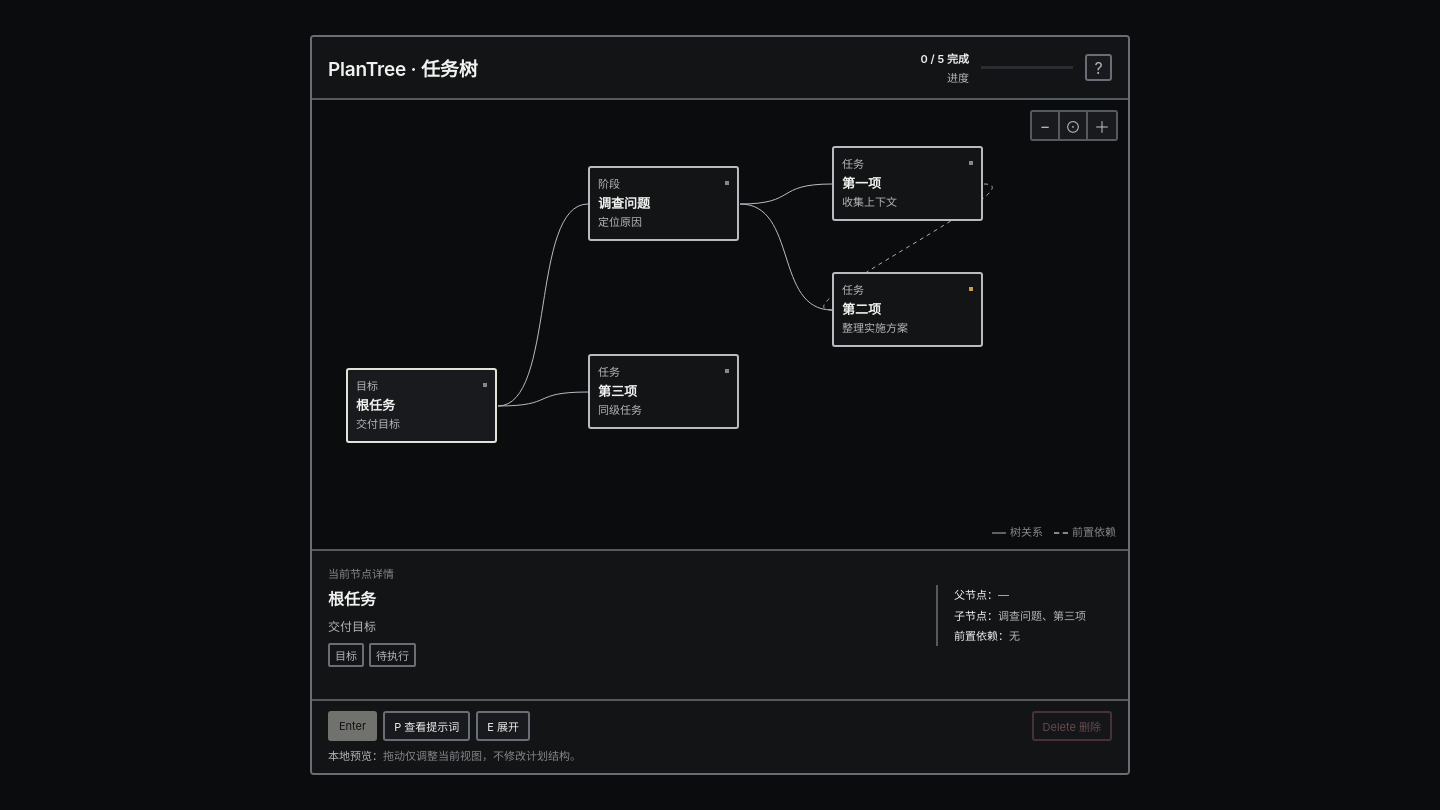
Test case: PlanTreeWindow › 点击画布空白后快捷键仍作用于整个任务图窗口
Press the mouse on the element with class "react-flow__pane": (648, 272) [312,100,983,443]
Press ? in the element named "PlanTree 任务图预览"
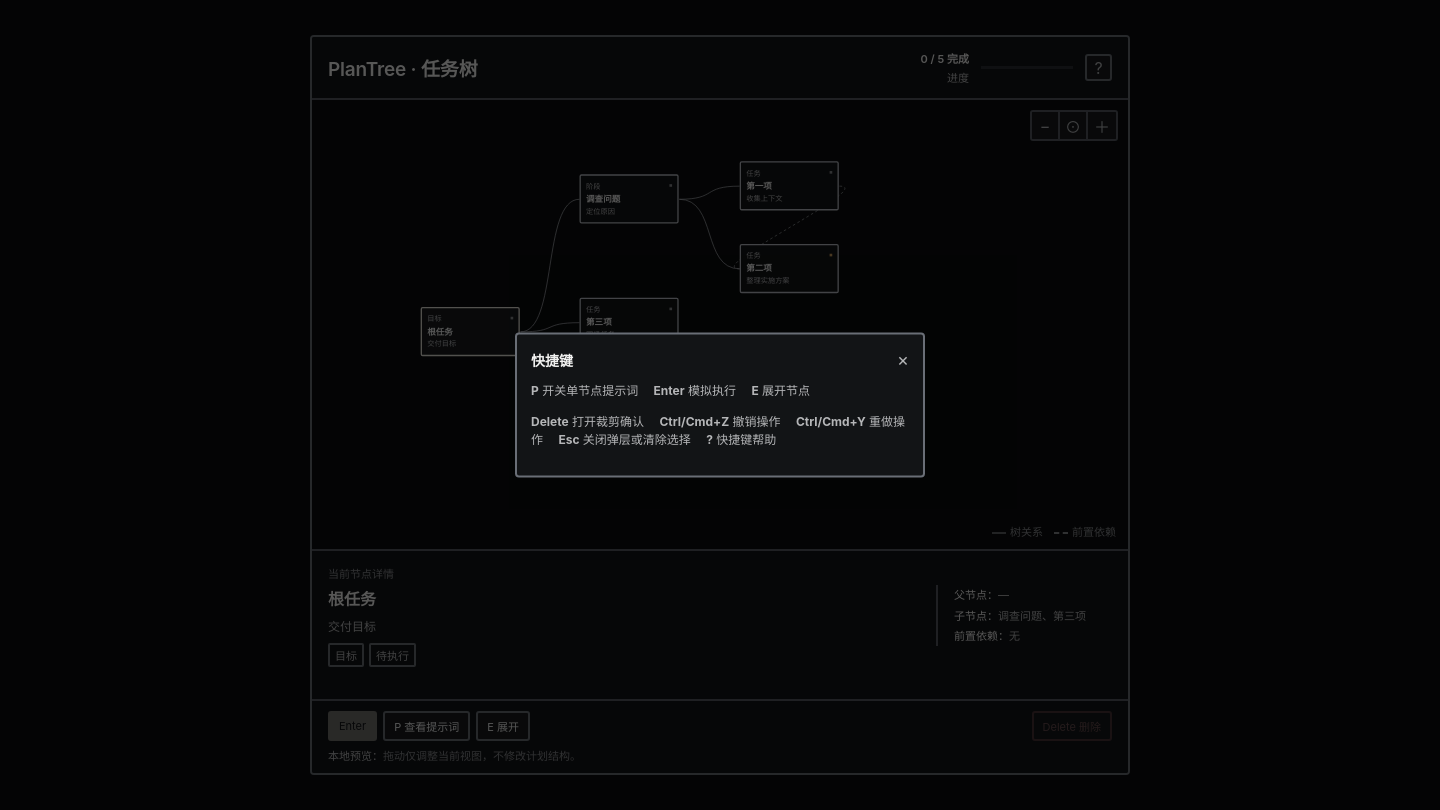
Result: the dialog named "快捷键帮助" is shown at [515,333,925,477]
